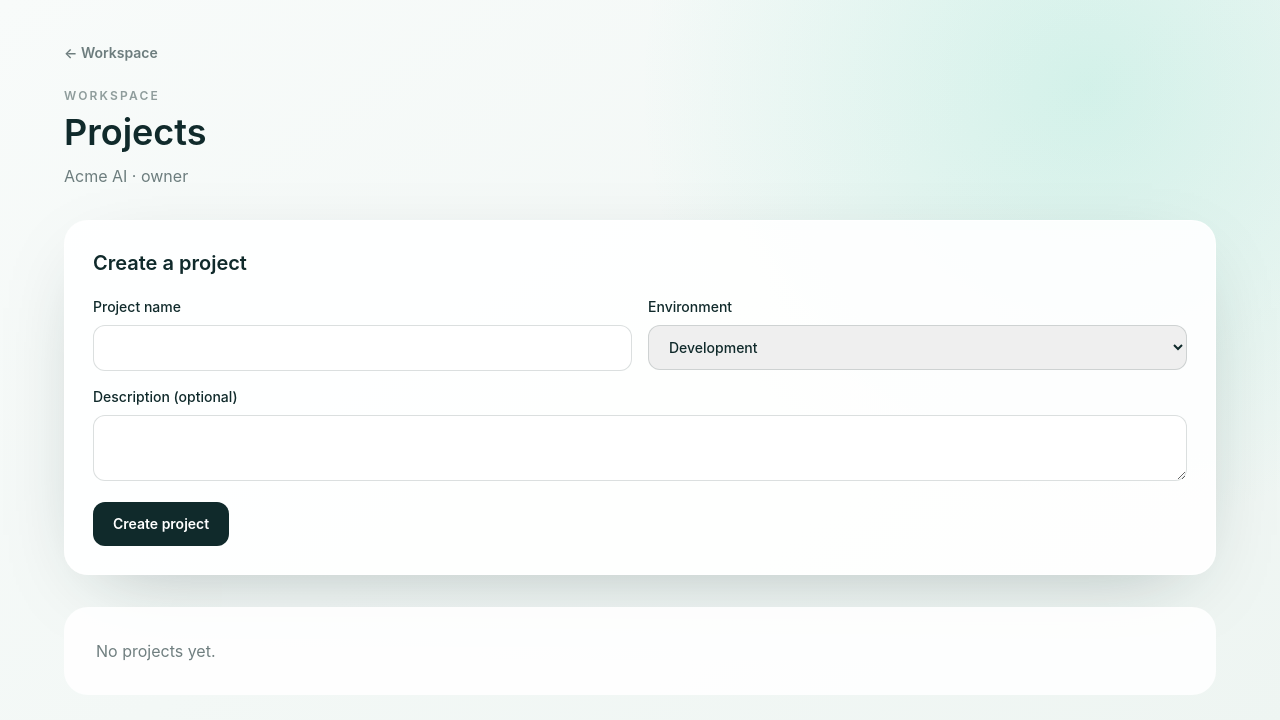
Scenario: ProjectsPage › creates a project and shows it in the list
The width and height of the screenshot is (1280, 720).
Expected: the text "No projects yet." is shown, [64,607,1216,695]
Type "Chat Backend" into the field labelled "Project name".
click(362, 348); type("Chat Backend")  # box [93,325,632,371]
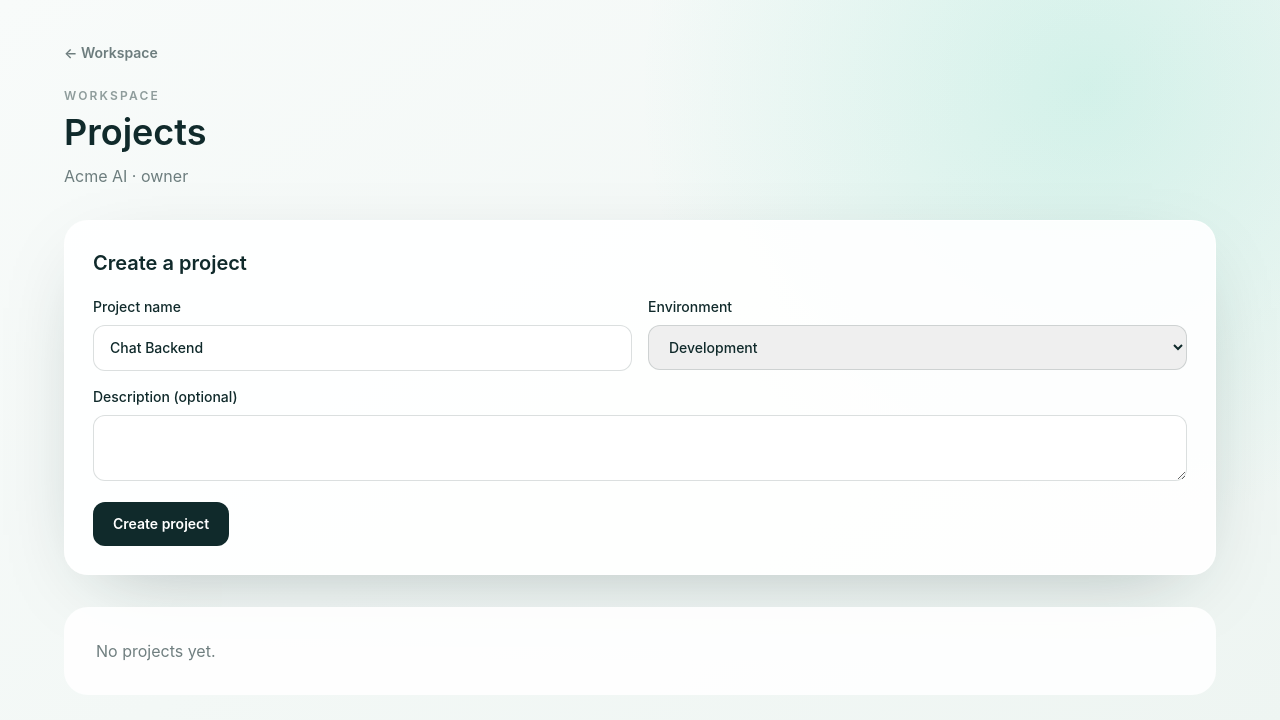
Click the button "Create project".
click(161, 524)  # box [93,502,229,546]
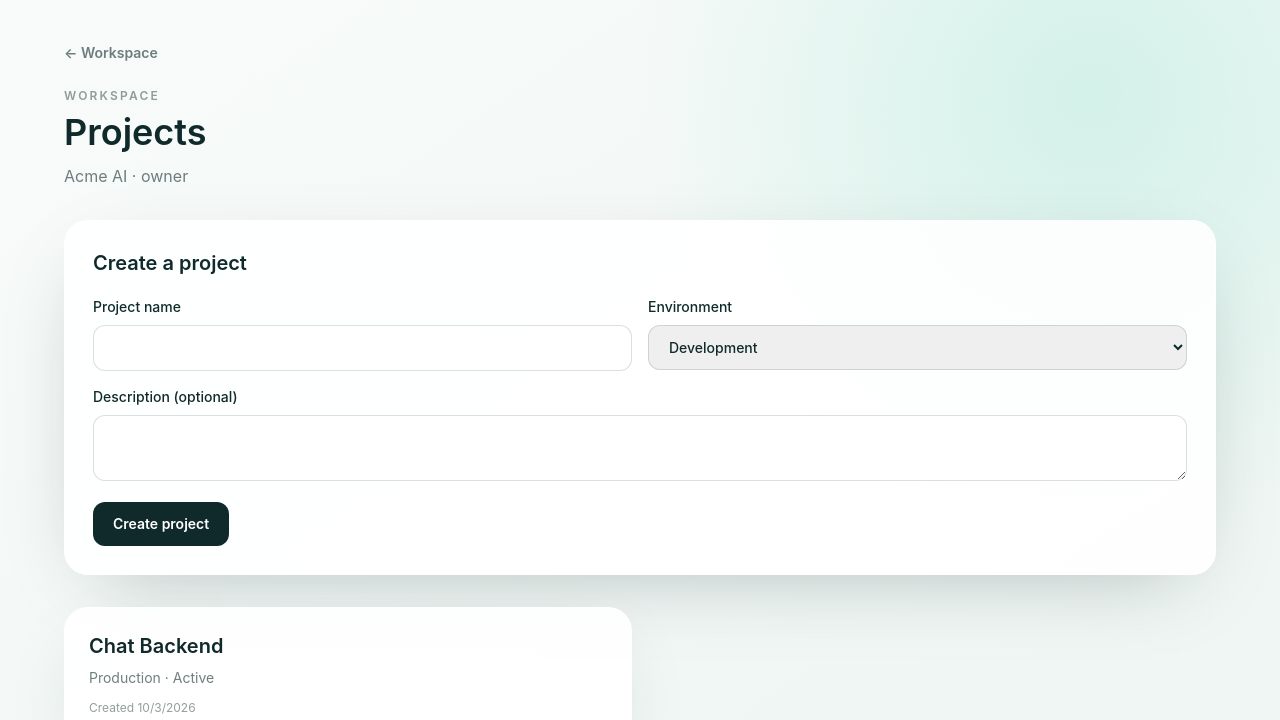
Result: the heading "Chat Backend" is shown at [89,634,223,658]
